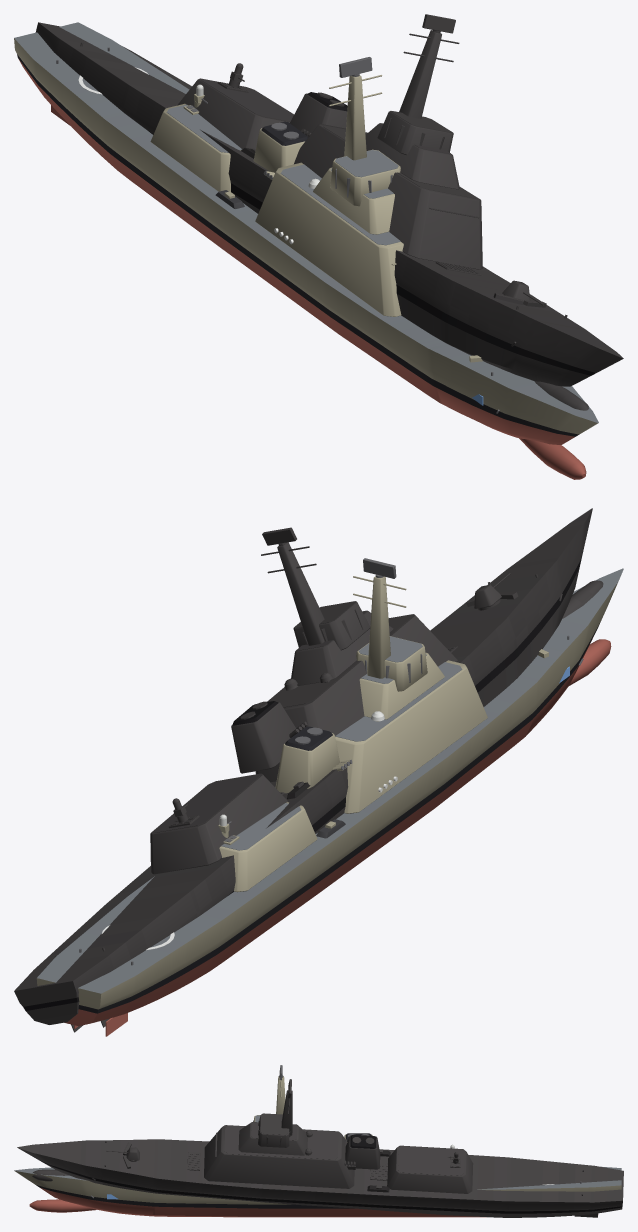
Rendered from destroyer__choe_hyon_class.glb.
3 renders of one model, top to bottom at view 1: azimuth 30°, elevation 25°; view 2: azimuth 150°, elevation 25°; view 3: azimuth 270°, elevation 25°, orthographic. The views are drawn at different scales.
Parts seen in each view (by area): view 1: Hull_Mesh, Wreck; view 2: Hull_Mesh, Wreck; view 3: Wreck, Hull_Mesh.
Part boxes in pixels (x1,y1,x2,y2): Hull_Mesh: (14,22,598,479); Wreck: (35,14,623,410); Hull_Mesh: (36,568,623,1036); Wreck: (14,508,603,1032); Wreck: (17,1079,623,1217); Hull_Mesh: (14,1076,621,1217).
Size of what is drawn, in the model's own units: 24.97 by 42.12 by 150.
